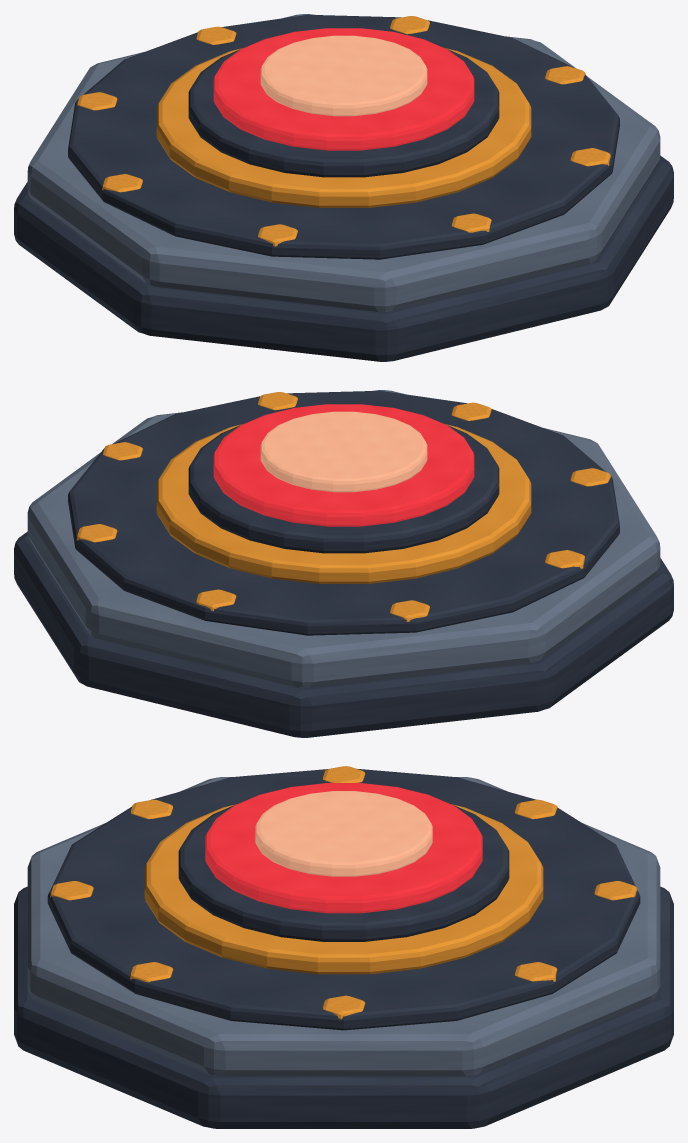
The model's file is gameMine.gltf.
3 views of the same model, one above another, from view 1: azimuth 30°, elevation 25°; view 2: azimuth 150°, elevation 25°; view 3: azimuth 270°, elevation 25° (orthographic). The views are drawn at different scales.
Visible parts, largest first — view 1: GameMine; view 2: GameMine; view 3: GameMine.
Part boxes in pixels (bbox=[...]): GameMine: bbox=[14, 14, 673, 361]; GameMine: bbox=[14, 390, 673, 737]; GameMine: bbox=[14, 766, 673, 1128].
Size of the model in its own units: 0.8869 by 0.249 by 0.8869.
5 materials, 5 textured.
